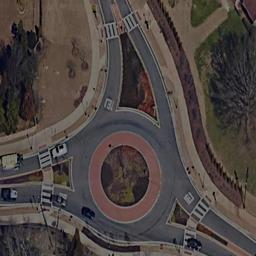Car: (1, 153, 23, 167), (82, 203, 96, 221), (51, 144, 68, 158), (186, 237, 202, 251), (1, 189, 19, 201), (51, 194, 67, 206)
Crosswalk: (193, 192, 215, 224), (39, 183, 55, 206), (123, 10, 136, 31), (38, 147, 53, 165), (105, 22, 118, 38)
